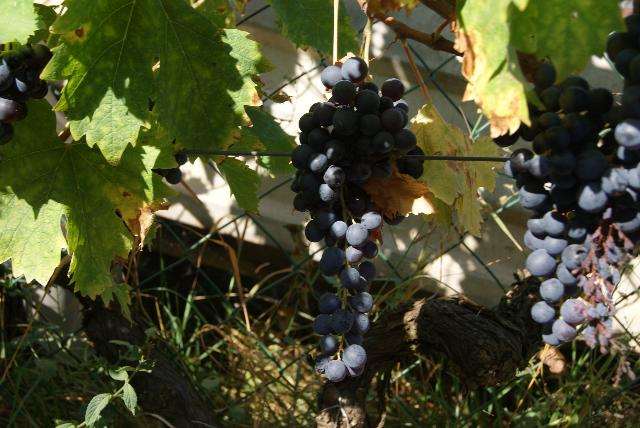grapes: (291, 56, 434, 382), (498, 62, 640, 346)
